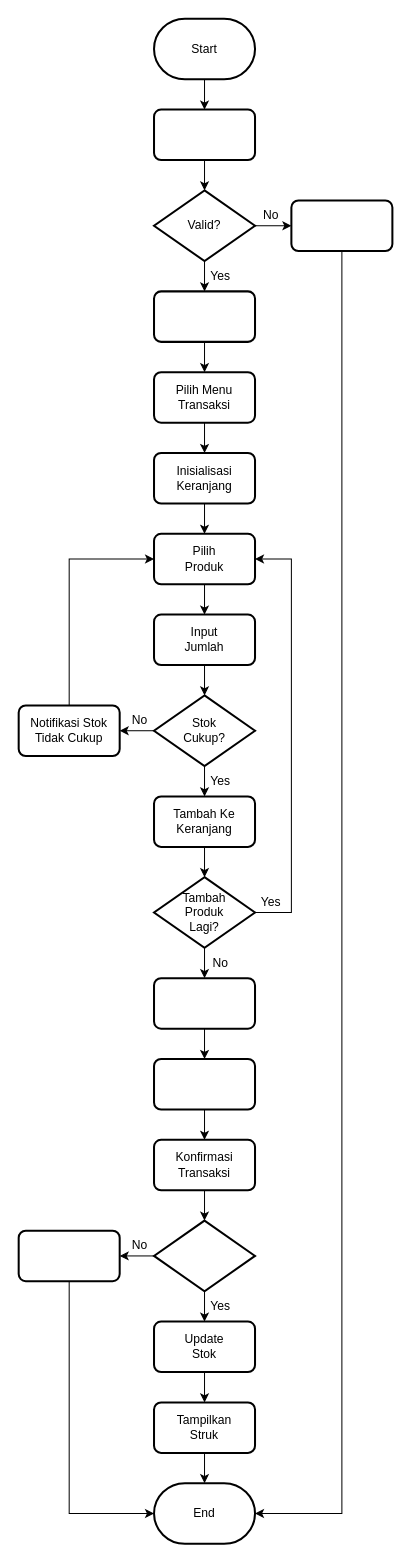
Some shapes in this 410 by 1561 pixel diagram are drawn without their labels. Each missing label, with the centre of its shape:
Hitung Total Harga: (204,1083)
Kosongkan Keranjang: (68,1255)
Lihat Keranjang: (204,1003)
Login: (204,134)
Masuk Dashboard: (204,316)
Setuju?: (204,1255)
Tampilkan Error: (341,225)
